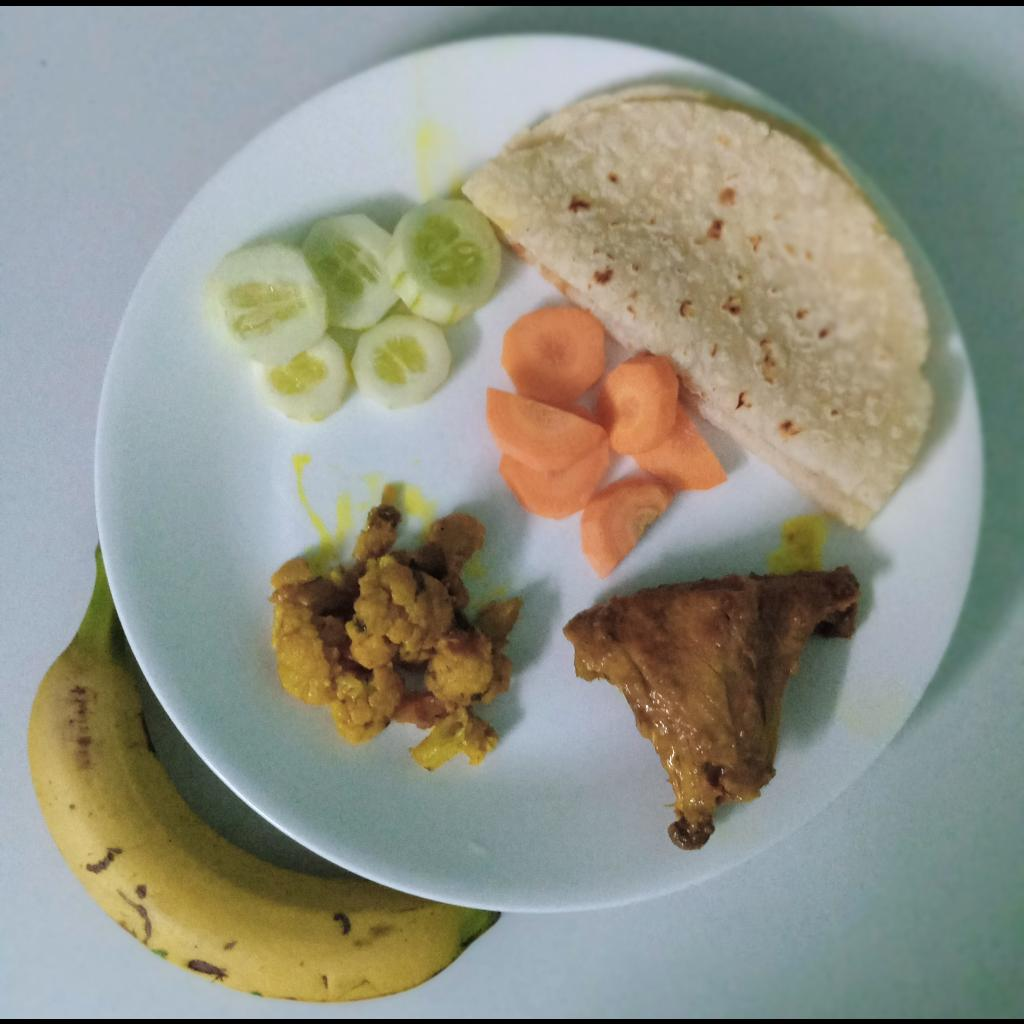banana: (27, 543, 505, 1003)
carrot: (485, 305, 729, 579)
cauliflower: (268, 504, 527, 771)
chicken: (562, 567, 862, 848)
cucumber: (203, 196, 504, 423)
ruti: (461, 86, 938, 533)
